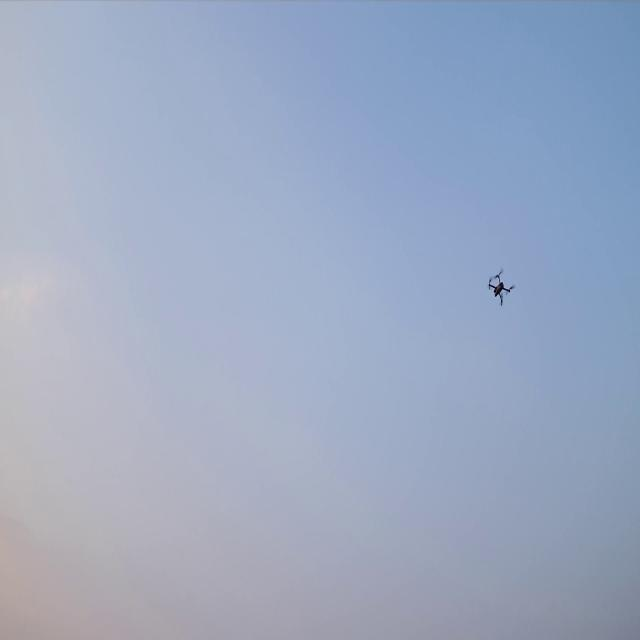UAV: (486, 265, 514, 306)
